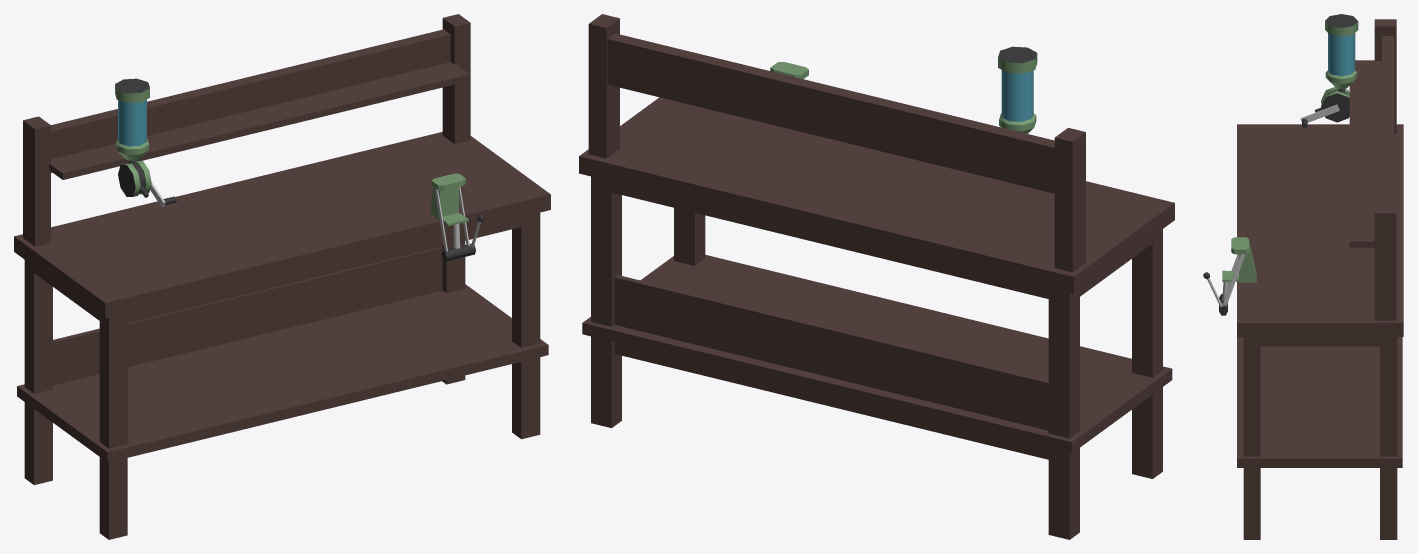
File: Workbench_ammo.fbx
3 renders of one model, left to right at view 1: azimuth 30°, elevation 25°; view 2: azimuth 150°, elevation 25°; view 3: azimuth 270°, elevation 25°, orthographic. The views are drawn at different scales.
Visible parts, largest first — view 1: ammoReloadBench; view 2: ammoReloadBench; view 3: ammoReloadBench.
Boxes of the visible parts, box(x1,y1,x2,y2) form: ammoReloadBench: box(14, 14, 550, 539); ammoReloadBench: box(579, 14, 1174, 539); ammoReloadBench: box(1203, 14, 1403, 539).
Bounding box in the file's own units: 207 × 175 × 88.09.
